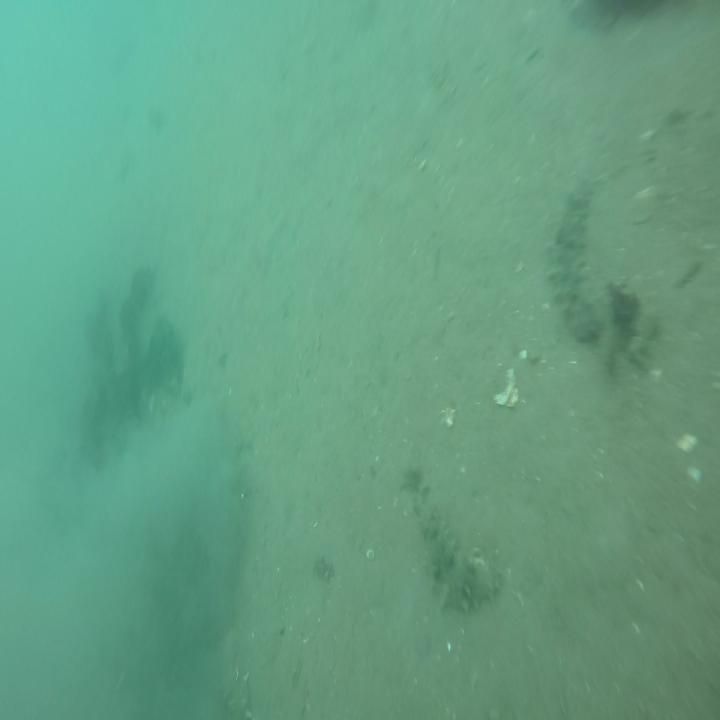holothurian: (545, 182, 608, 346), (417, 507, 504, 616)
